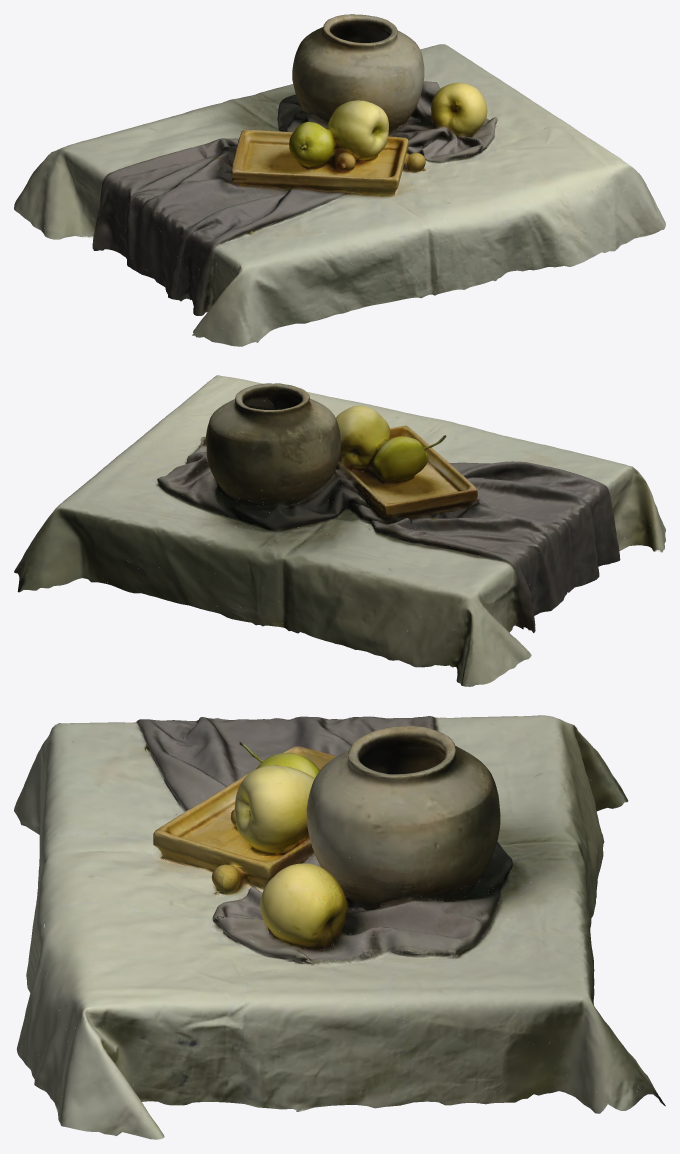
File: 静物系列_苹果陶罐04_opt.glb
3 views of the same model, one above another, from view 1: azimuth 30°, elevation 25°; view 2: azimuth 150°, elevation 25°; view 3: azimuth 270°, elevation 25° (orthographic). The views are drawn at different scales.
Visible parts, largest first — view 1: defaultMat, defaultMat_1; view 2: defaultMat, defaultMat_1; view 3: defaultMat, defaultMat_1.
Part boxes in pixels (x1=…): defaultMat: x1=14, y1=14, x2=665, y2=346; defaultMat_1: x1=20, y1=16, x2=663, y2=342; defaultMat: x1=14, y1=375, x2=665, y2=686; defaultMat_1: x1=15, y1=376, x2=664, y2=684; defaultMat: x1=14, y1=715, x2=665, y2=1139; defaultMat_1: x1=18, y1=717, x2=650, y2=1131.
Bounding box in the file's own units: 1.85 × 0.6 × 1.44.
Materials: 1 (1 with a texture image).
